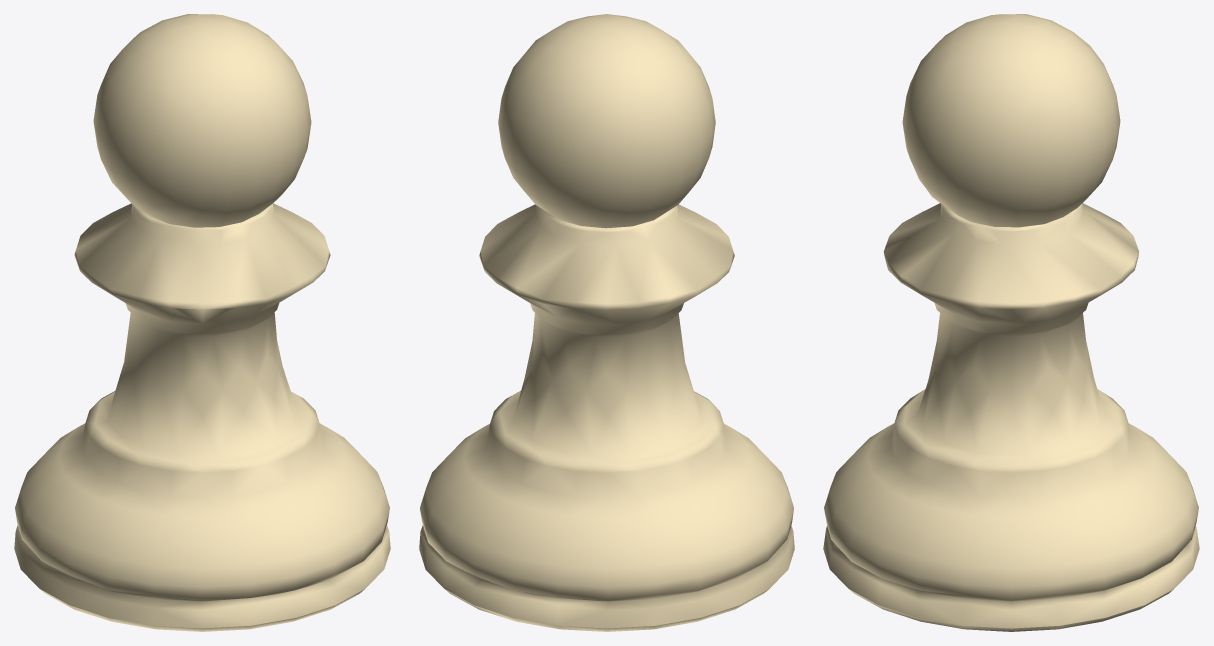
File: xadrez_peao_branco_pacote.glb
3 renders of one model, left to right at view 1: azimuth 30°, elevation 25°; view 2: azimuth 150°, elevation 25°; view 3: azimuth 270°, elevation 25°, orthographic.
Visible parts, largest first — view 1: xadrez_peao_branco_pacote; view 2: xadrez_peao_branco_pacote; view 3: xadrez_peao_branco_pacote.
Part boxes in pixels (box(x1,y1,x2,y2)): xadrez_peao_branco_pacote: box(14, 14, 390, 631); xadrez_peao_branco_pacote: box(419, 14, 794, 631); xadrez_peao_branco_pacote: box(823, 14, 1199, 631).
Size of the model in its own units: 0.0287 by 0.0454 by 0.0288.
1 material, 1 textured.
